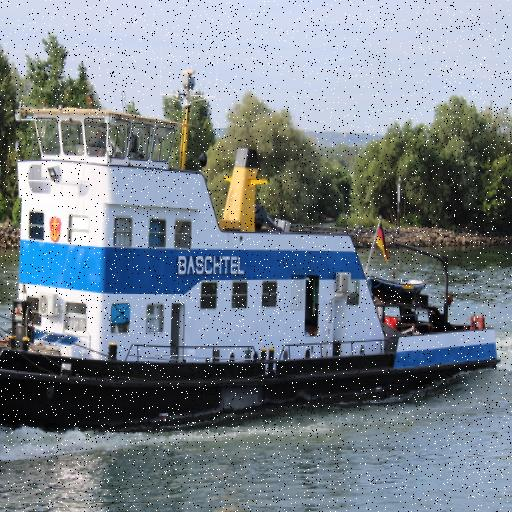tugboat: (1, 66, 508, 448)
